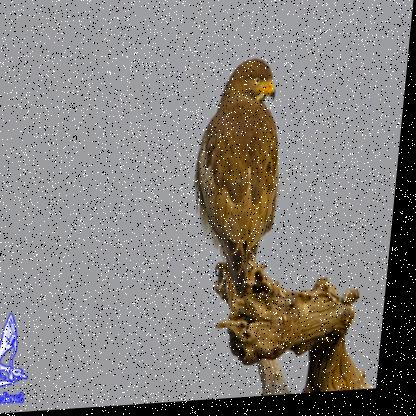Burung: (183, 57, 297, 320)
